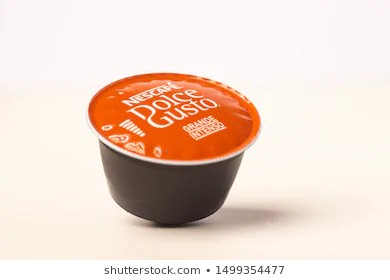nescafe-dolce: (86, 69, 271, 224)
